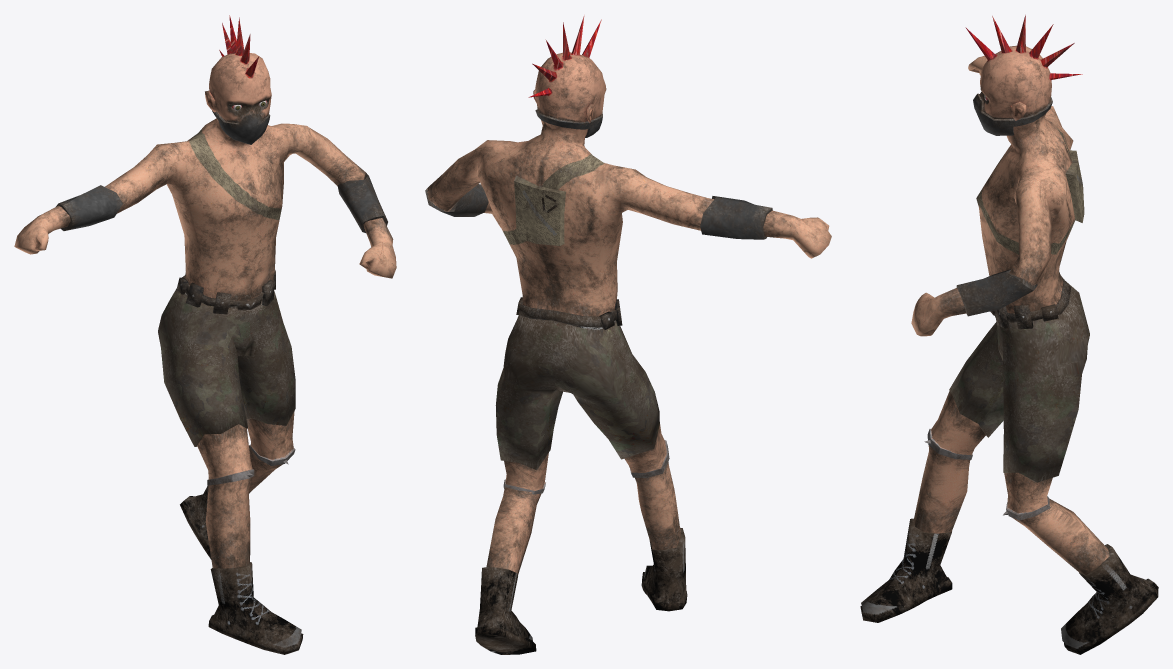
The model's file is Anim_arma_cc_npc2.0014.obj.
3 views of the same model, side by side, from view 1: azimuth 30°, elevation 25°; view 2: azimuth 150°, elevation 25°; view 3: azimuth 270°, elevation 25° (orthographic). The views are drawn at different scales.
Visible parts, largest first — view 1: polySurface1; view 2: polySurface1; view 3: polySurface1.
Part boxes in pixels (x1,y1,x2,y2): polySurface1: (14, 15, 396, 654); polySurface1: (425, 15, 831, 654); polySurface1: (860, 15, 1158, 654).
Bounding box in the file's own units: 6.58 × 10.07 × 4.35.
